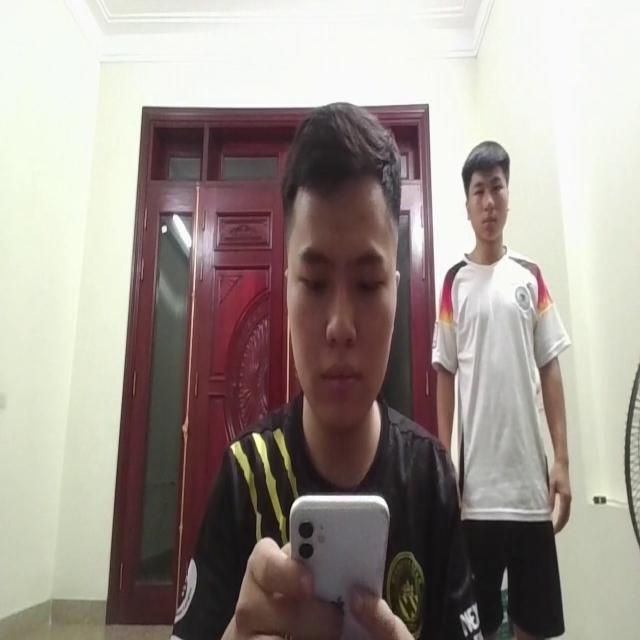extra_person: (431, 125, 583, 598)
phone: (278, 475, 397, 640)
student: (241, 82, 430, 500)
